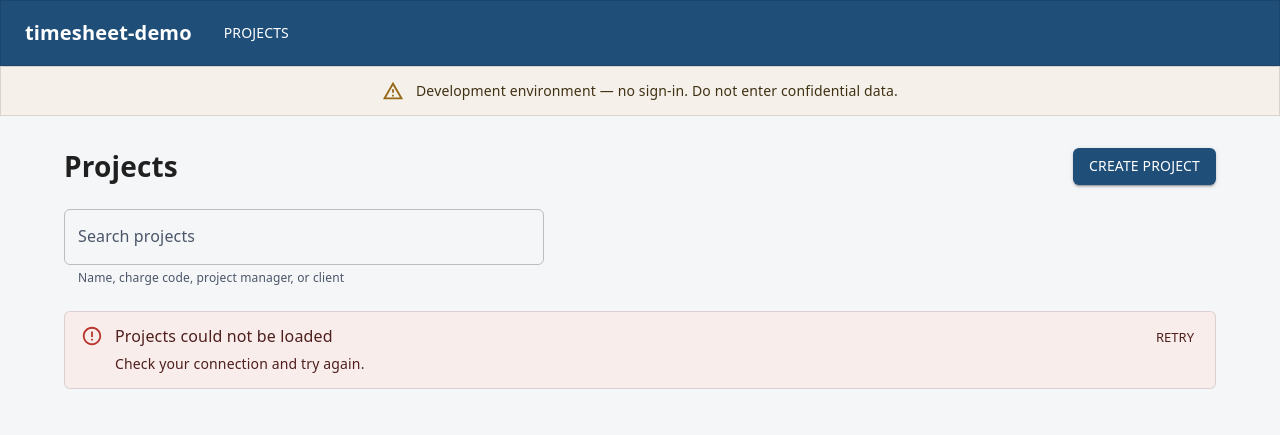
Test: ProjectListPage › shows an error state and retries
Expected: the text "Projects could not be loaded" is shown, [115,324,365,348]
Click the button "Retry" at x=1175, y=338, box [1143,322,1207,353]
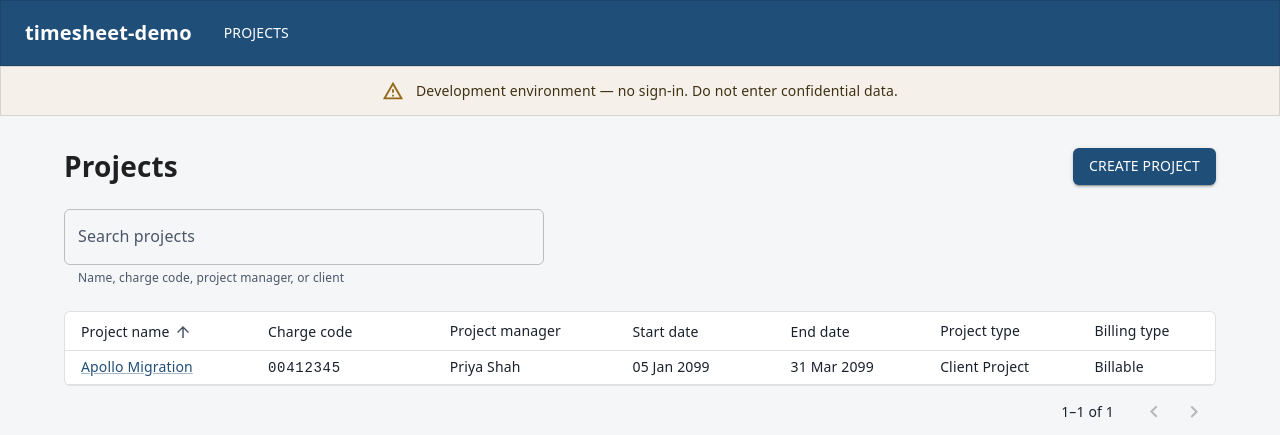
Now the link "Apollo Migration" is shown, box [81,357,193,376]
